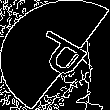P_SE: (18, 26, 92, 84)
